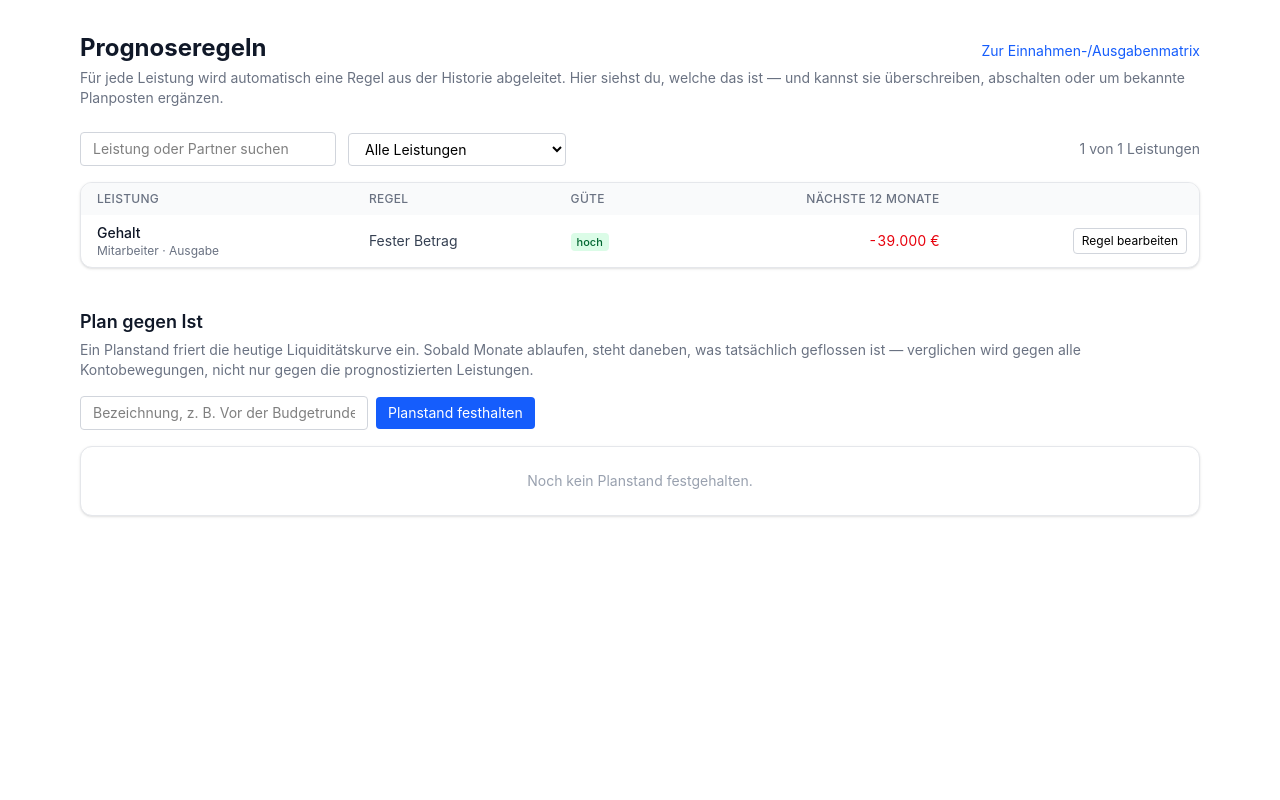
Test: ForecastPage – Regel-Editor › zeigt erkanntes Muster und Vorschau
Click the button "Regel bearbeiten". click: coordinates (1130, 241)
box: [1073,228,1187,254]
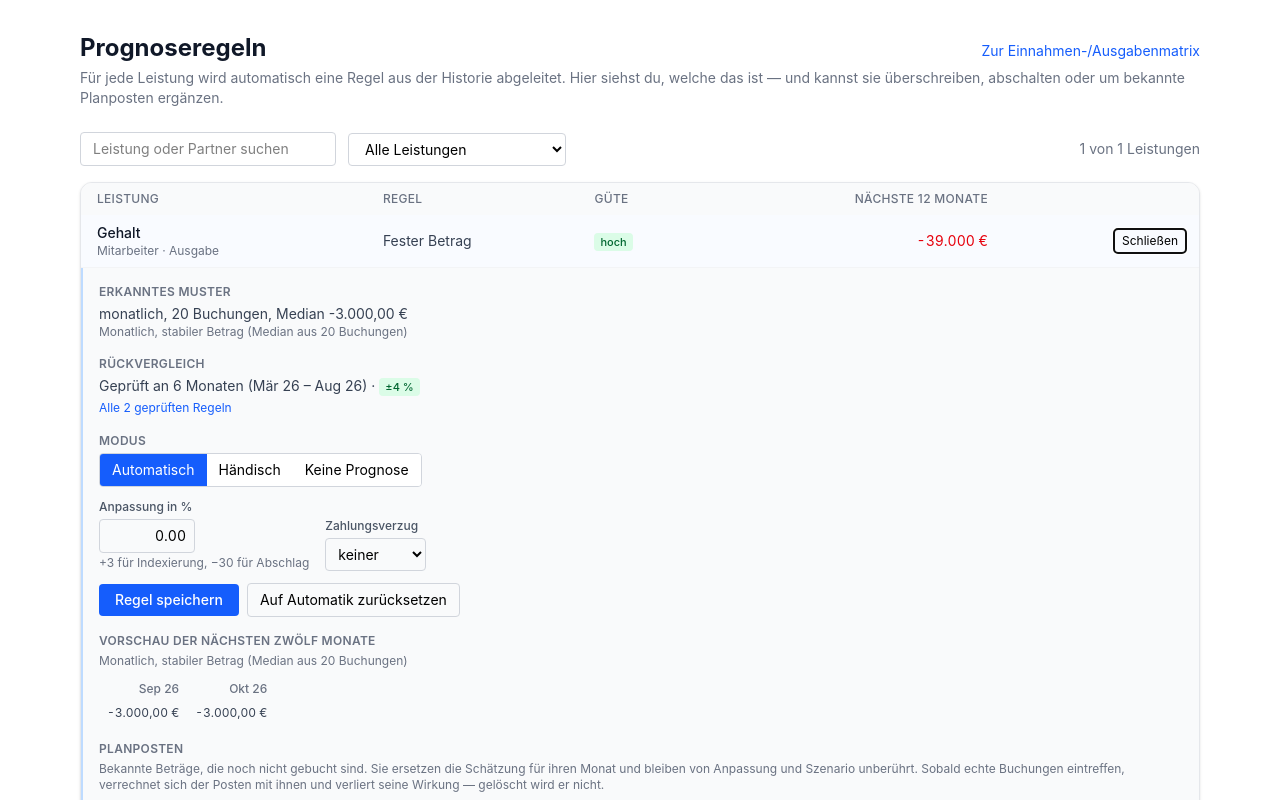
Expected: the text "monatlich, 20 Buchungen, Median -3.000,00 €" is shown, [99,305,408,322]
Expected: the column heading "Sep 26" is shown, [99,677,187,701]
